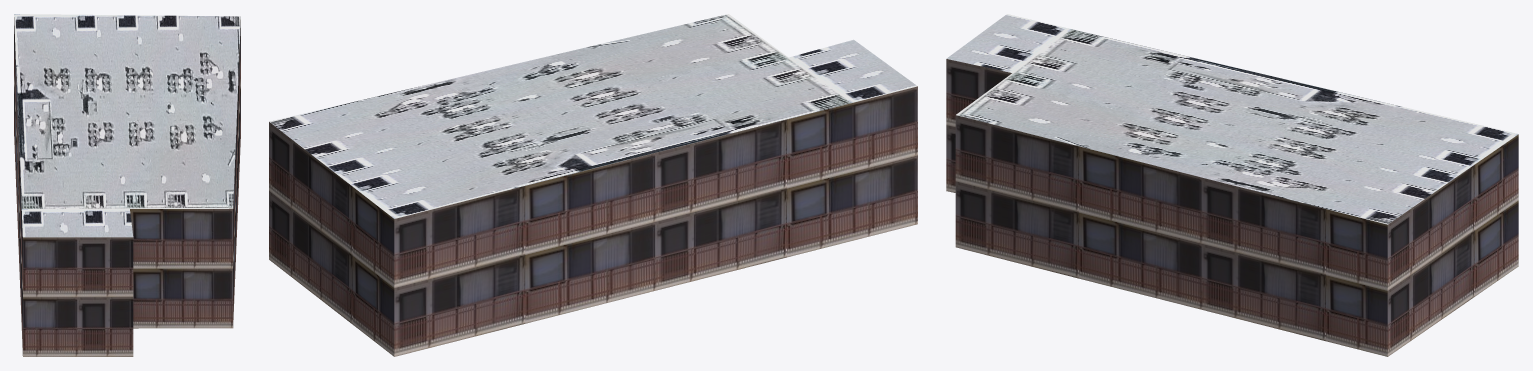
File: ResTex__592.fbx
3 views of the same model, side by side, from view 1: azimuth 30°, elevation 25°; view 2: azimuth 150°, elevation 25°; view 3: azimuth 270°, elevation 25° (orthographic). The views are drawn at different scales.
Visible parts, largest first — view 1: CityEngineMaterial_m, CityEngineMaterial_6_m; view 2: CityEngineMaterial_6_m, CityEngineMaterial_m; view 3: CityEngineMaterial_6_m, CityEngineMaterial_m.
Part boxes in pixels (box(x1,y1,x2,y2)): CityEngineMaterial_m: box(14, 14, 240, 237); CityEngineMaterial_6_m: box(14, 17, 240, 356); CityEngineMaterial_6_m: box(269, 86, 917, 356); CityEngineMaterial_m: box(269, 14, 917, 218); CityEngineMaterial_6_m: box(946, 59, 1518, 356); CityEngineMaterial_m: box(946, 14, 1518, 224).
Size of the model in its own units: 20.49 by 6 by 23.53.
Materials: 2 (2 with a texture image).
